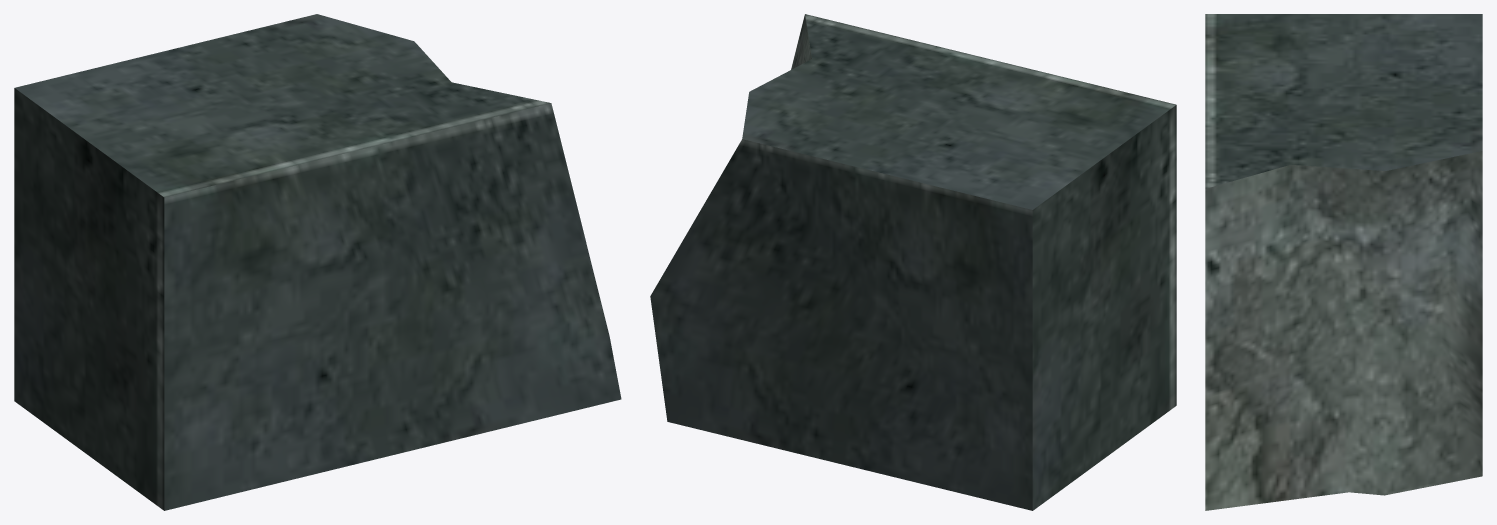
3 renders of one model, left to right at view 1: azimuth 30°, elevation 25°; view 2: azimuth 150°, elevation 25°; view 3: azimuth 270°, elevation 25°, orthographic. The views are drawn at different scales.
Visible parts, largest first — view 1: model_Object06; view 2: model_Object06; view 3: model_Object06.
Boxes of the visible parts, x1=… form: model_Object06: x1=14, y1=14, x2=621, y2=510; model_Object06: x1=650, y1=14, x2=1176, y2=510; model_Object06: x1=1205, y1=14, x2=1482, y2=510.
Size of the model in its own units: 1 by 0.6571 by 0.5695.
2 materials, 2 textured.
